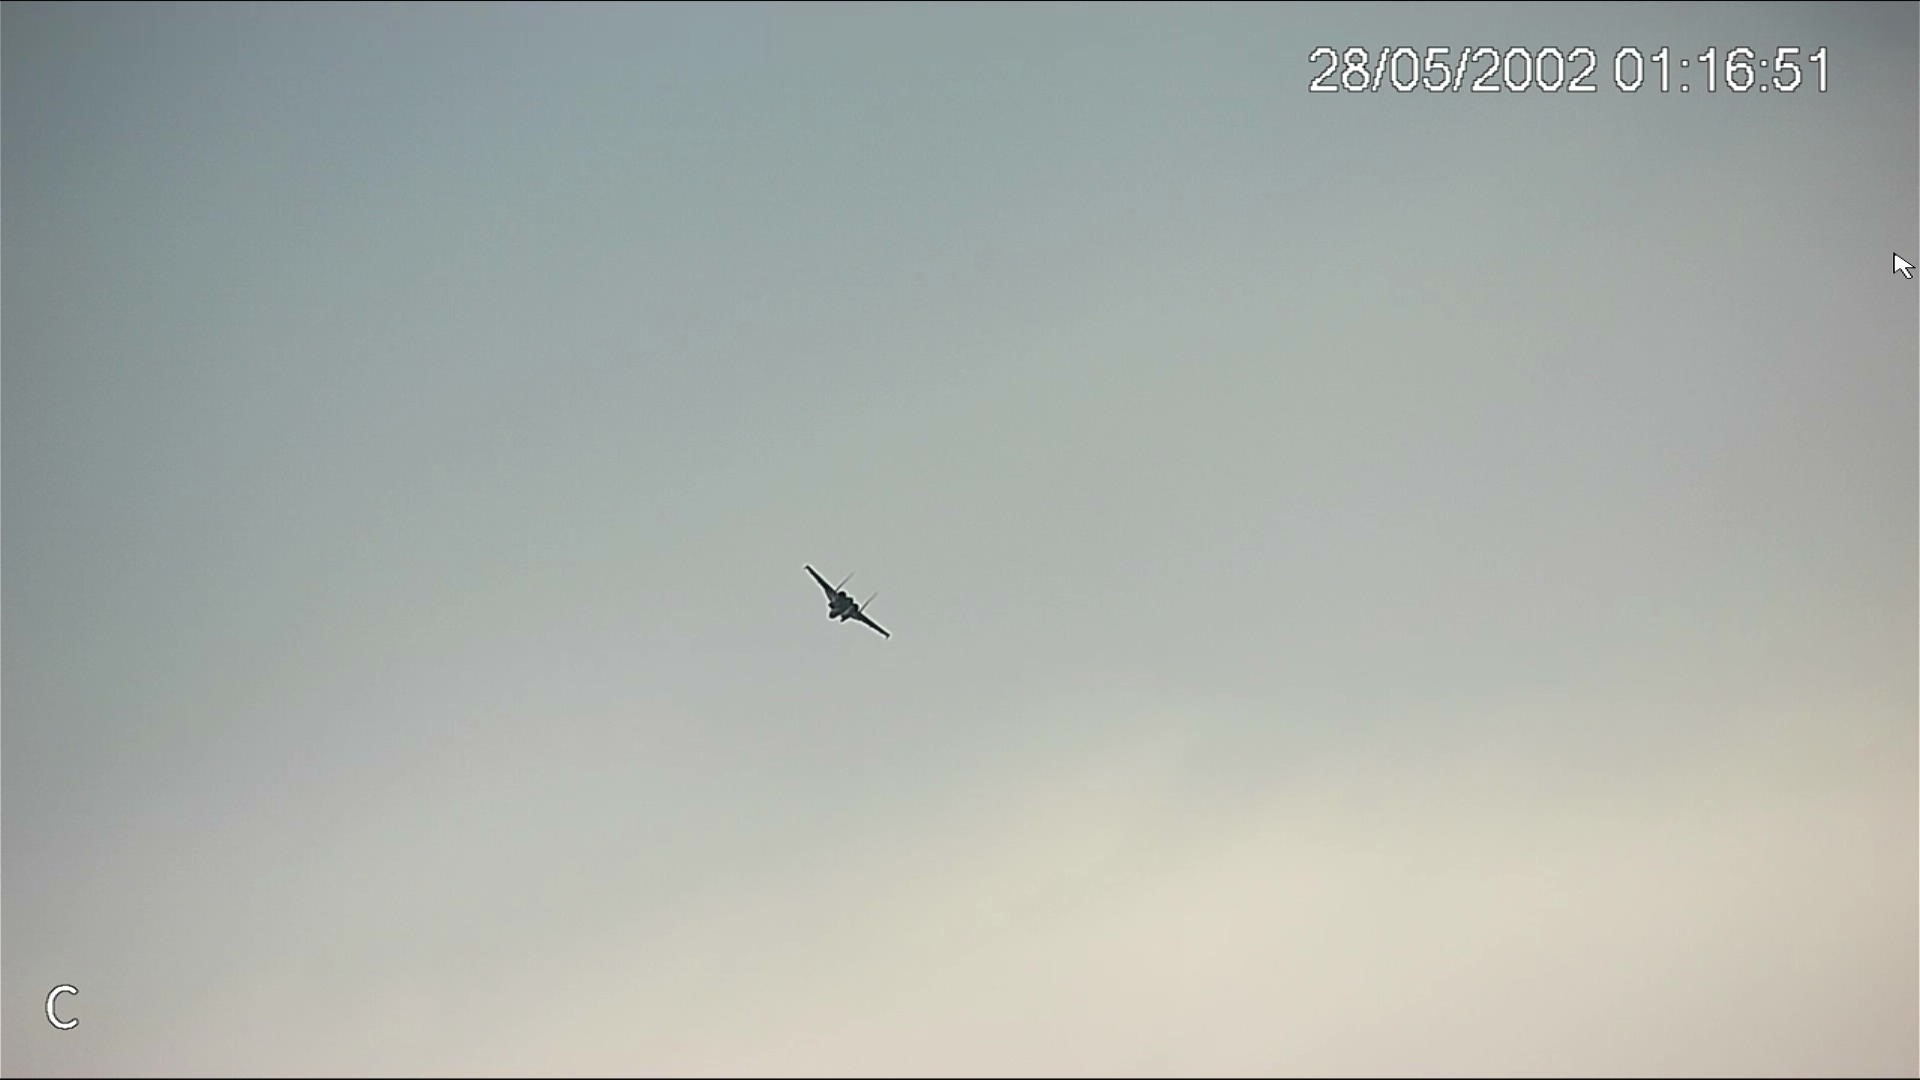SU_30: (798, 559, 897, 641)
